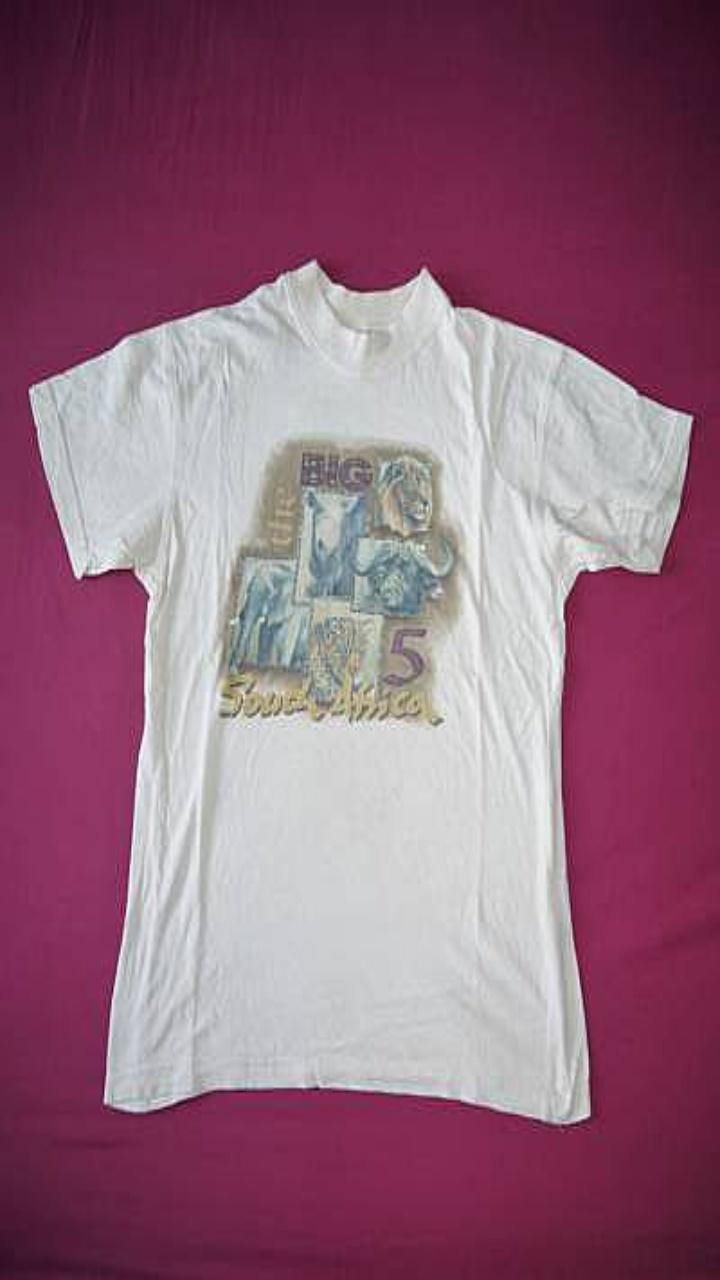T-Shirt: (29, 259, 692, 1123)
